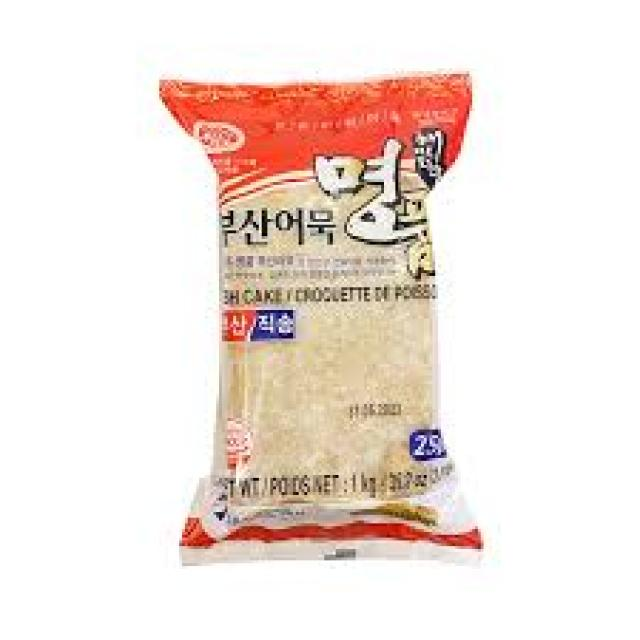fish_cake: (155, 71, 482, 560)
